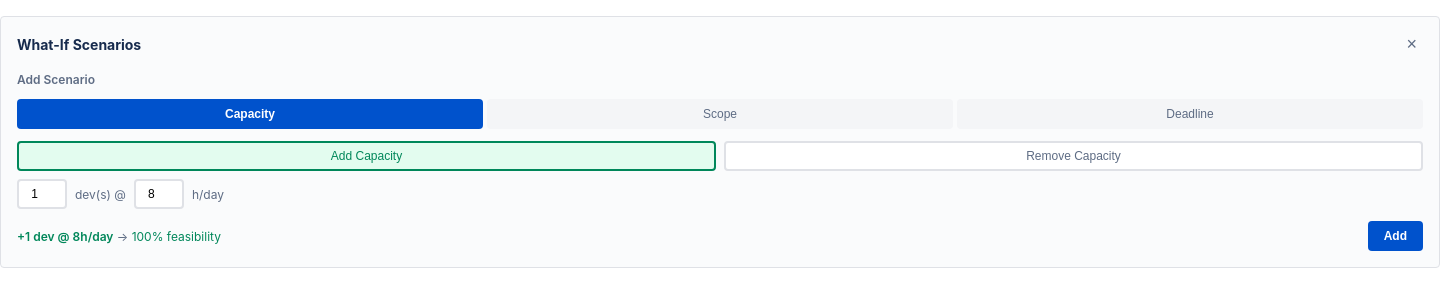
WhatIfPanel › scope scenarios › shows scope options when scope tab clicked
Click the button "Scope" at (720,114), box [487,99,953,129]
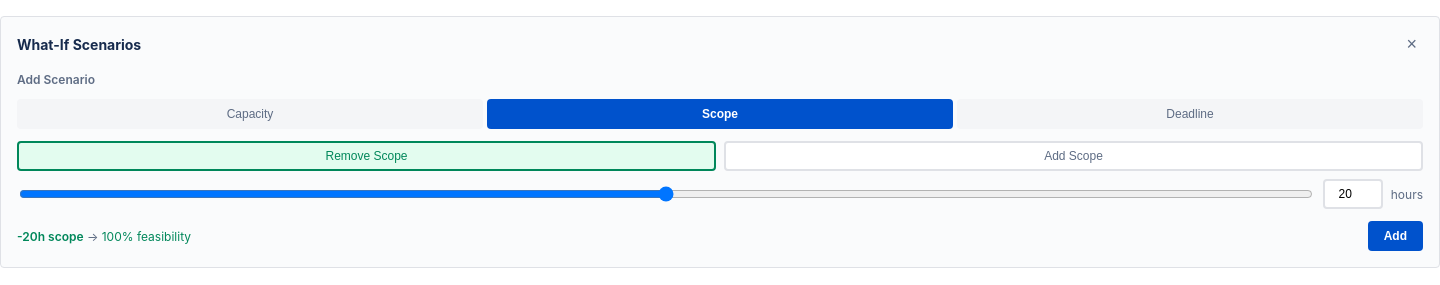
Expected: the button "Remove Scope" is shown, [17,141,716,171]
Expected: the button "Add Scope" is shown, [724,141,1423,171]
